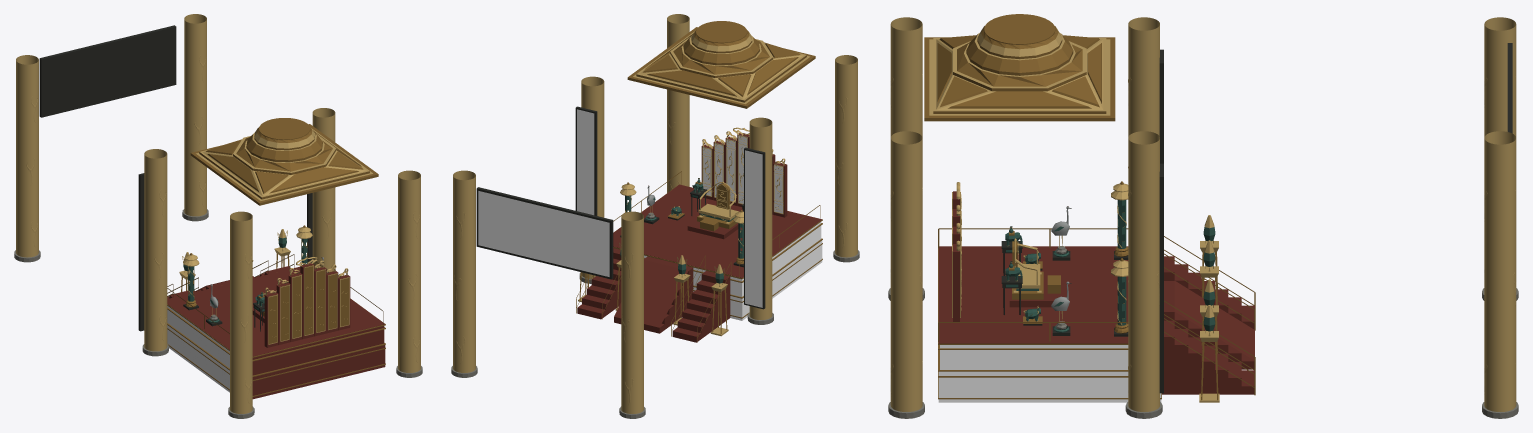
Rendered from taihe-display-grid-6012719f9618.glb.
3 views of the same model, side by side, from view 1: azimuth 30°, elevation 25°; view 2: azimuth 150°, elevation 25°; view 3: azimuth 270°, elevation 25° (orthographic). The views are drawn at different scales.
Visible parts, largest first — view 1: merged_taihe_gold, merged_taihe_dark_gold, merged_taihe_lacquer, merged_taihe_dark_wood, merged_taihe_glyph_atlas, merged_taihe_stone, throne_blue_waist; view 2: merged_taihe_gold, merged_taihe_glyph_atlas, merged_taihe_lacquer, merged_taihe_dark_gold, merged_taihe_dark_wood, throne_blue_waist, merged_taihe_stone; view 3: merged_taihe_gold, merged_taihe_lacquer, merged_taihe_dark_gold, merged_taihe_glyph_atlas, merged_taihe_dark_wood, throne_blue_waist, merged_taihe_stone.
Part boxes in pixels (x1,y1,x2,y2): merged_taihe_gold: [16, 14, 420, 413]; merged_taihe_dark_gold: [167, 118, 385, 396]; merged_taihe_lacquer: [167, 263, 385, 399]; merged_taihe_dark_wood: [39, 25, 321, 331]; merged_taihe_glyph_atlas: [167, 306, 229, 392]; merged_taihe_stone: [14, 209, 422, 418]; throne_blue_waist: [183, 237, 307, 322]; merged_taihe_gold: [453, 14, 857, 413]; merged_taihe_glyph_atlas: [478, 109, 822, 320]; merged_taihe_lacquer: [577, 133, 821, 342]; merged_taihe_dark_gold: [576, 21, 822, 342]; merged_taihe_dark_wood: [476, 106, 765, 309]; throne_blue_waist: [620, 178, 743, 283]; merged_taihe_stone: [451, 212, 859, 418]; merged_taihe_gold: [890, 17, 1516, 411]; merged_taihe_lacquer: [938, 191, 1254, 394]; merged_taihe_dark_gold: [924, 14, 1255, 400]; merged_taihe_glyph_atlas: [938, 345, 1161, 402]; merged_taihe_dark_wood: [1001, 43, 1512, 393]; throne_blue_waist: [1005, 200, 1215, 332]; merged_taihe_stone: [888, 246, 1518, 418].
Bounding box in the file's own units: 9.63 × 11.27 × 19.81.
